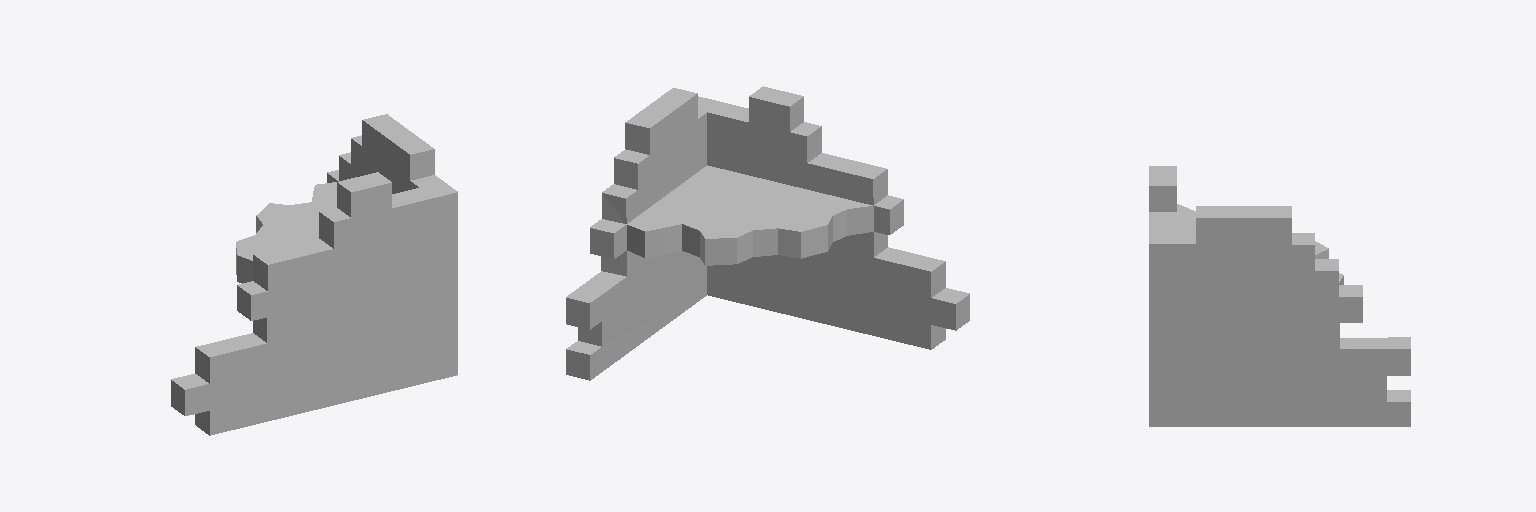
File: sufit_1.obj
3 views of the same model, side by side, from view 1: azimuth 30°, elevation 25°; view 2: azimuth 150°, elevation 25°; view 3: azimuth 270°, elevation 25° (orthographic).
Visible parts, largest first — view 1: lowpoly1.001; view 2: lowpoly1.001; view 3: lowpoly1.001.
Boxes of the visible parts, x1=… form: lowpoly1.001: x1=171, y1=114, x2=457, y2=435; lowpoly1.001: x1=566, y1=86, x2=969, y2=380; lowpoly1.001: x1=1149, y1=166, x2=1410, y2=426.
Bounding box in the file's own units: 46.55 × 33.96 × 38.77.